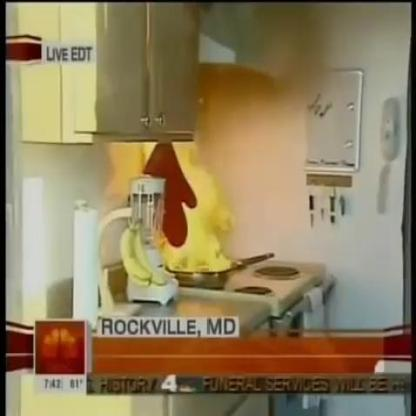fire: (140, 141, 236, 274)
